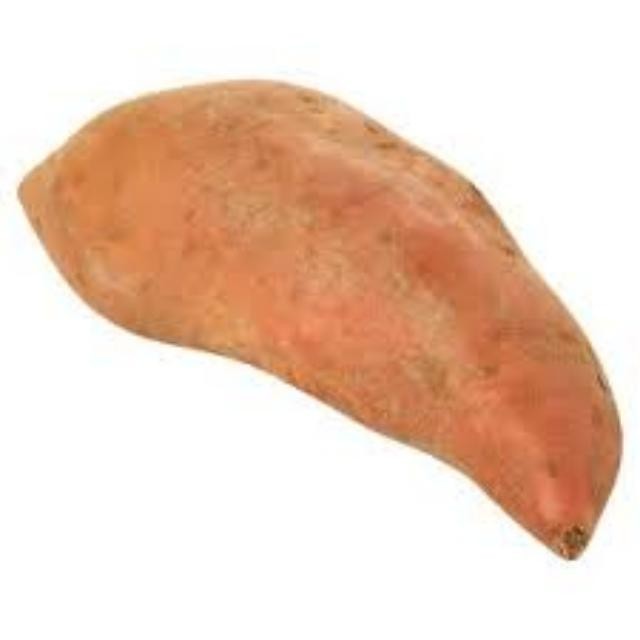Damaged potato: (0, 58, 640, 604)
